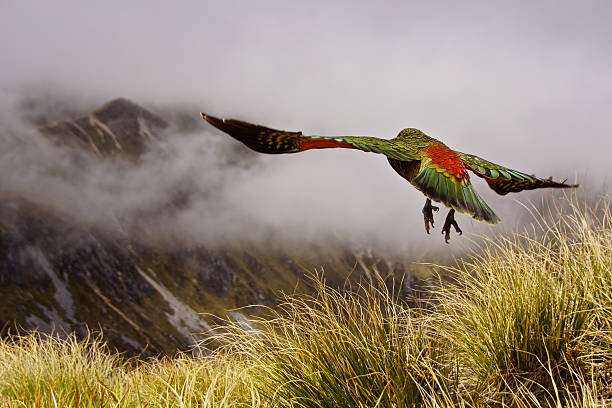Bird: (195, 107, 580, 247)
